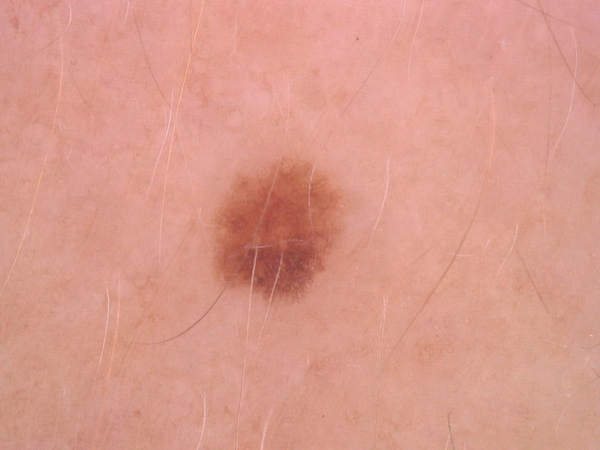Detected Lesion: (210, 151, 351, 310)
